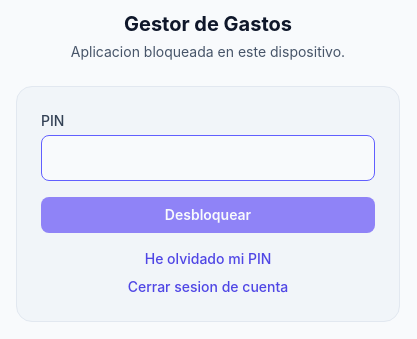
Test: LockGate — con PIN activo y bloqueada › el boton de desbloquear esta deshabilitado sin PIN y se habilita al escribir
Expected: the button "Desbloquear" is disabled, left=41, top=197, right=375, bottom=233
In the password field labelled "PIN": (208, 158) left=41, top=135, right=375, bottom=181, type "1"
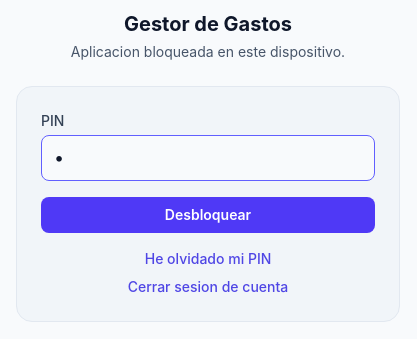
Expected: the button "Desbloquear" is enabled, left=41, top=197, right=375, bottom=233
